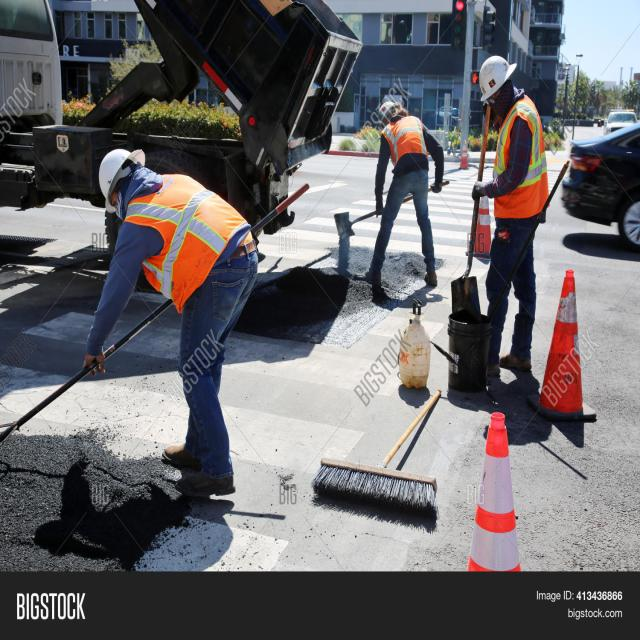Boots: (156, 430, 242, 500), (469, 312, 548, 384), (353, 256, 444, 286)
Gloves: (472, 181, 497, 202)
Hard Hat: (96, 144, 149, 216), (474, 48, 520, 103), (372, 98, 402, 124)
Reflective Vest: (124, 168, 257, 328), (486, 92, 550, 223), (380, 115, 434, 163)
